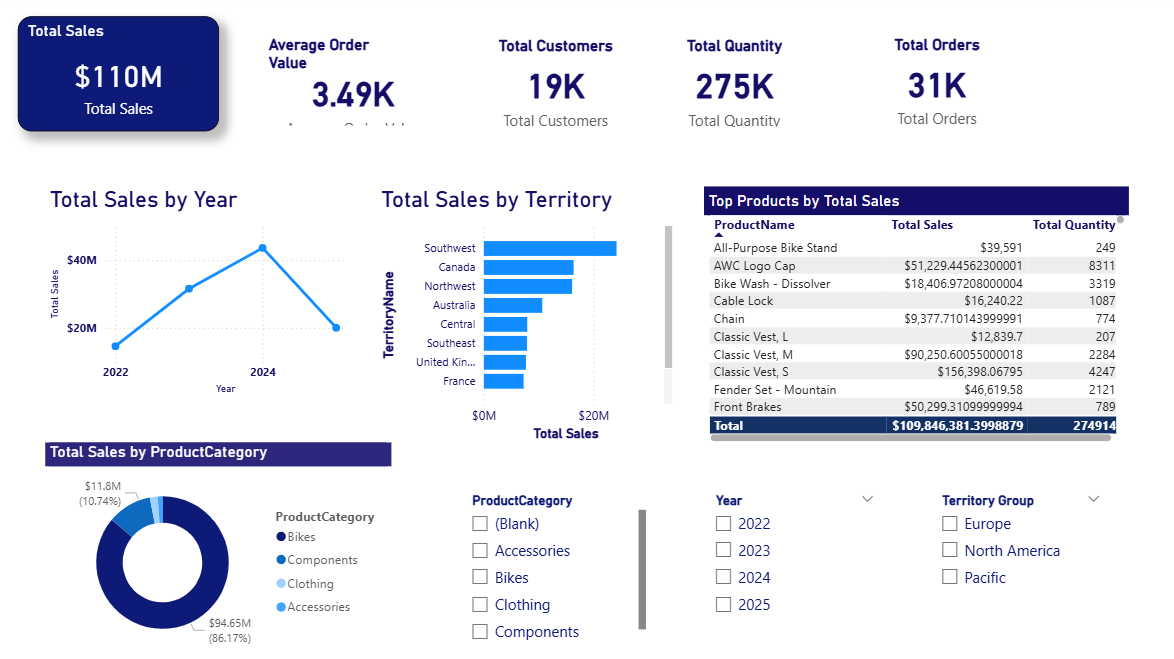

The page's visual inventory and layout, read from the dashboard file:
{"tool":"powerbi","page":{"name":"Executive Summary","canvas":[1280,720],"ordinal":0},"visuals":[{"type":"card","title":"Total Sales","fields":{"Values":["Table.Total Sales"]},"box":[20.2,22.9,216.7,123.9],"z":0},{"type":"card","title":"Total Orders","fields":{"Values":["Table.Total Orders"]},"box":[914.1,43.1,192.5,102.3],"z":1000},{"type":"card","title":"Total Customers","fields":{"Values":["Table.Total Customers"]},"box":[503.5,44.4,192.5,102.3],"z":2000},{"type":"card","title":"Total Quantity","fields":{"Values":["Table.Total Quantity"]},"box":[696,44.4,192.5,102.3],"z":3000},{"type":"card","title":"Average Order Value","fields":{"Values":["Table.Average Order Value"]},"box":[285.4,43.1,192.5,102.3],"z":4000},{"type":"lineChart","fields":{"Category":["vw_DimDate.Year"],"Y":["Table.Total Sales"]},"box":[49.8,206,332.5,228.9],"z":5000},{"type":"clusteredBarChart","title":"Total Sales by Territory","fields":{"Category":["vw_DimTerritory.TerritoryName"],"Y":["Table.Total Sales"]},"box":[406.6,206,323.1,280],"z":6000},{"type":"tableEx","title":"Top Products by Total Sales","fields":{"Values":["vw_DimProduct.ProductName","Table.Total Sales","Table.Total Quantity"]},"box":[759.3,206,457.7,280],"z":7000},{"type":"slicer","fields":{"Values":["vw_DimDate.Year"]},"box":[759.3,530.4,195.2,169.6],"z":8000},{"type":"slicer","fields":{"Values":["vw_DimProduct.ProductCategory"]},"box":[496.8,530.4,205,169.6],"z":9000},{"type":"slicer","fields":{"Values":["vw_DimTerritory.TerritoryGroup"]},"box":[1002.9,530.4,195,169.6],"z":10000},{"type":"donutChart","fields":{"Category":["vw_DimProduct.ProductCategory"],"Y":["Table.Total Sales"]},"box":[49.8,482,372.9,238.3],"z":11000}]}

Visuals, with their boxes in screenshot pixels (x1, y1, x2, y2), scaled from the page's 1280x720 canvas onto the 1174x659 screenshot:
"Total Sales" card: {"x1": 19, "y1": 21, "x2": 217, "y2": 134}
"Total Orders" card: {"x1": 838, "y1": 39, "x2": 1015, "y2": 133}
"Total Customers" card: {"x1": 462, "y1": 41, "x2": 638, "y2": 134}
"Total Quantity" card: {"x1": 638, "y1": 41, "x2": 815, "y2": 134}
"Average Order Value" card: {"x1": 262, "y1": 39, "x2": 438, "y2": 133}
lineChart - vw_DimDate.Year x Table.Total Sales: {"x1": 46, "y1": 189, "x2": 351, "y2": 398}
"Total Sales by Territory" clusteredBarChart: {"x1": 373, "y1": 189, "x2": 669, "y2": 445}
"Top Products by Total Sales" tableEx: {"x1": 696, "y1": 189, "x2": 1116, "y2": 445}
slicer - vw_DimDate.Year: {"x1": 696, "y1": 485, "x2": 875, "y2": 641}
slicer - vw_DimProduct.ProductCategory: {"x1": 456, "y1": 485, "x2": 644, "y2": 641}
slicer - vw_DimTerritory.TerritoryGroup: {"x1": 920, "y1": 485, "x2": 1099, "y2": 641}
donutChart - vw_DimProduct.ProductCategory x Table.Total Sales: {"x1": 46, "y1": 441, "x2": 388, "y2": 658}
